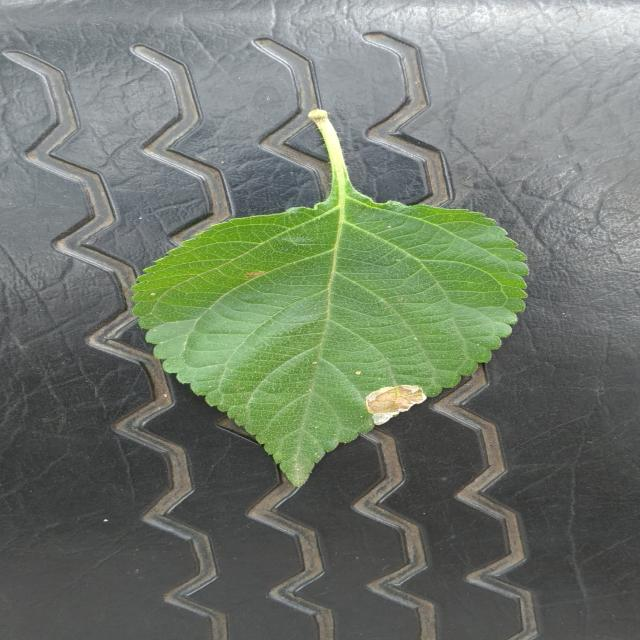Lantana: (133, 110, 527, 486)
